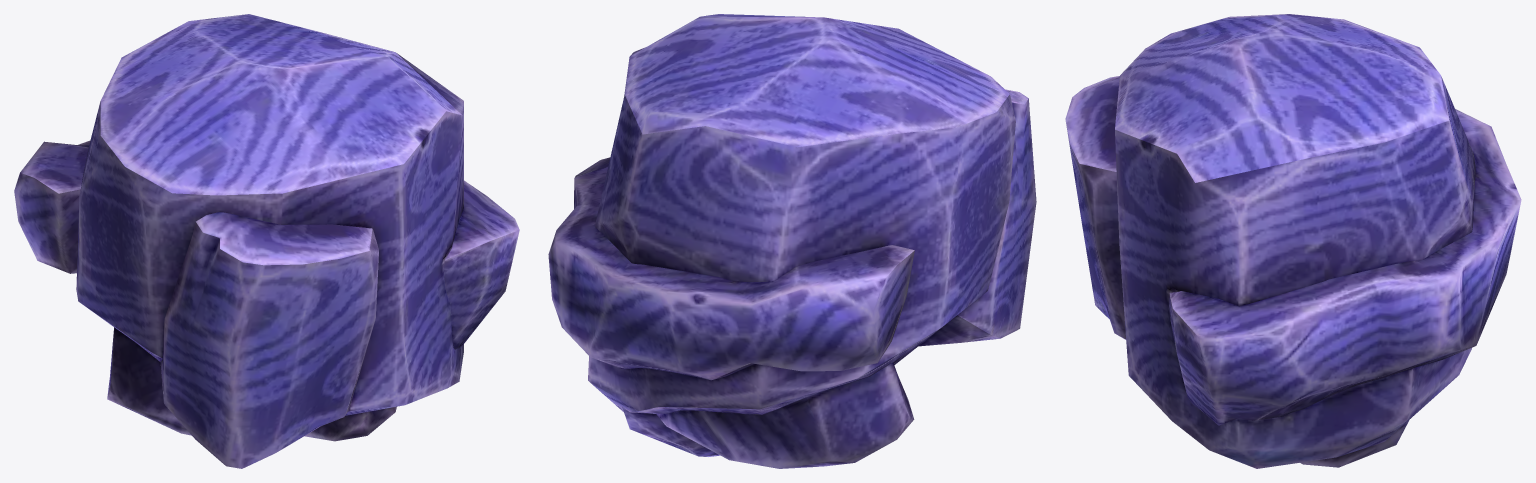
The picture shows the model from 3 angles, left to right: view 1: azimuth 30°, elevation 25°; view 2: azimuth 150°, elevation 25°; view 3: azimuth 270°, elevation 25°; orthographic projection. The views are drawn at different scales.
Parts seen in each view (by area): view 1: SM_Blurite_Ore_Small_01_LOD0; view 2: SM_Blurite_Ore_Small_01_LOD0; view 3: SM_Blurite_Ore_Small_01_LOD0.
Part boxes in pixels (left/top/right/bottom): SM_Blurite_Ore_Small_01_LOD0: left=14, top=14, right=519, bottom=468; SM_Blurite_Ore_Small_01_LOD0: left=548, top=14, right=1036, bottom=468; SM_Blurite_Ore_Small_01_LOD0: left=1065, top=14, right=1521, bottom=468.
Size of the model in its own units: 0.2491 by 0.2454 by 0.261.
1 material, 1 textured.
